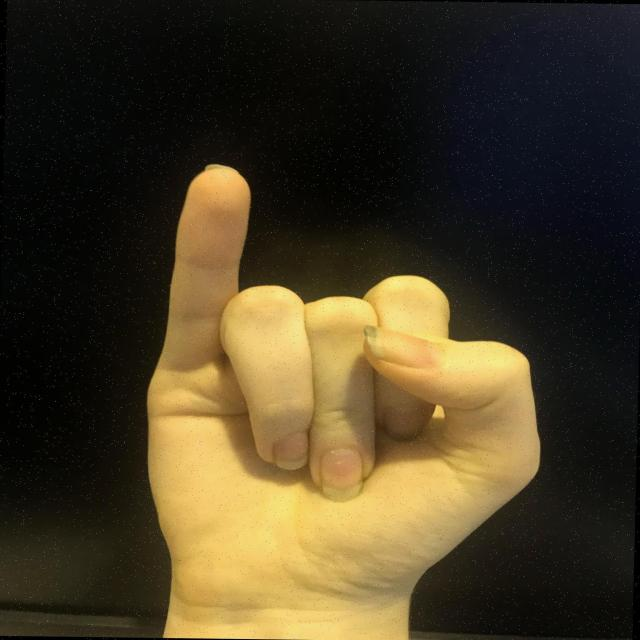I: (131, 158, 558, 613)
